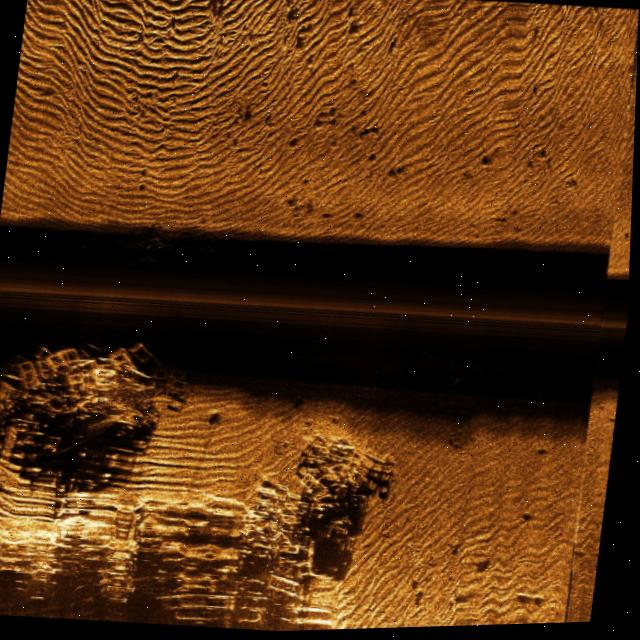artificial reef: (0, 341, 206, 467), (233, 425, 389, 551), (72, 216, 248, 291)
